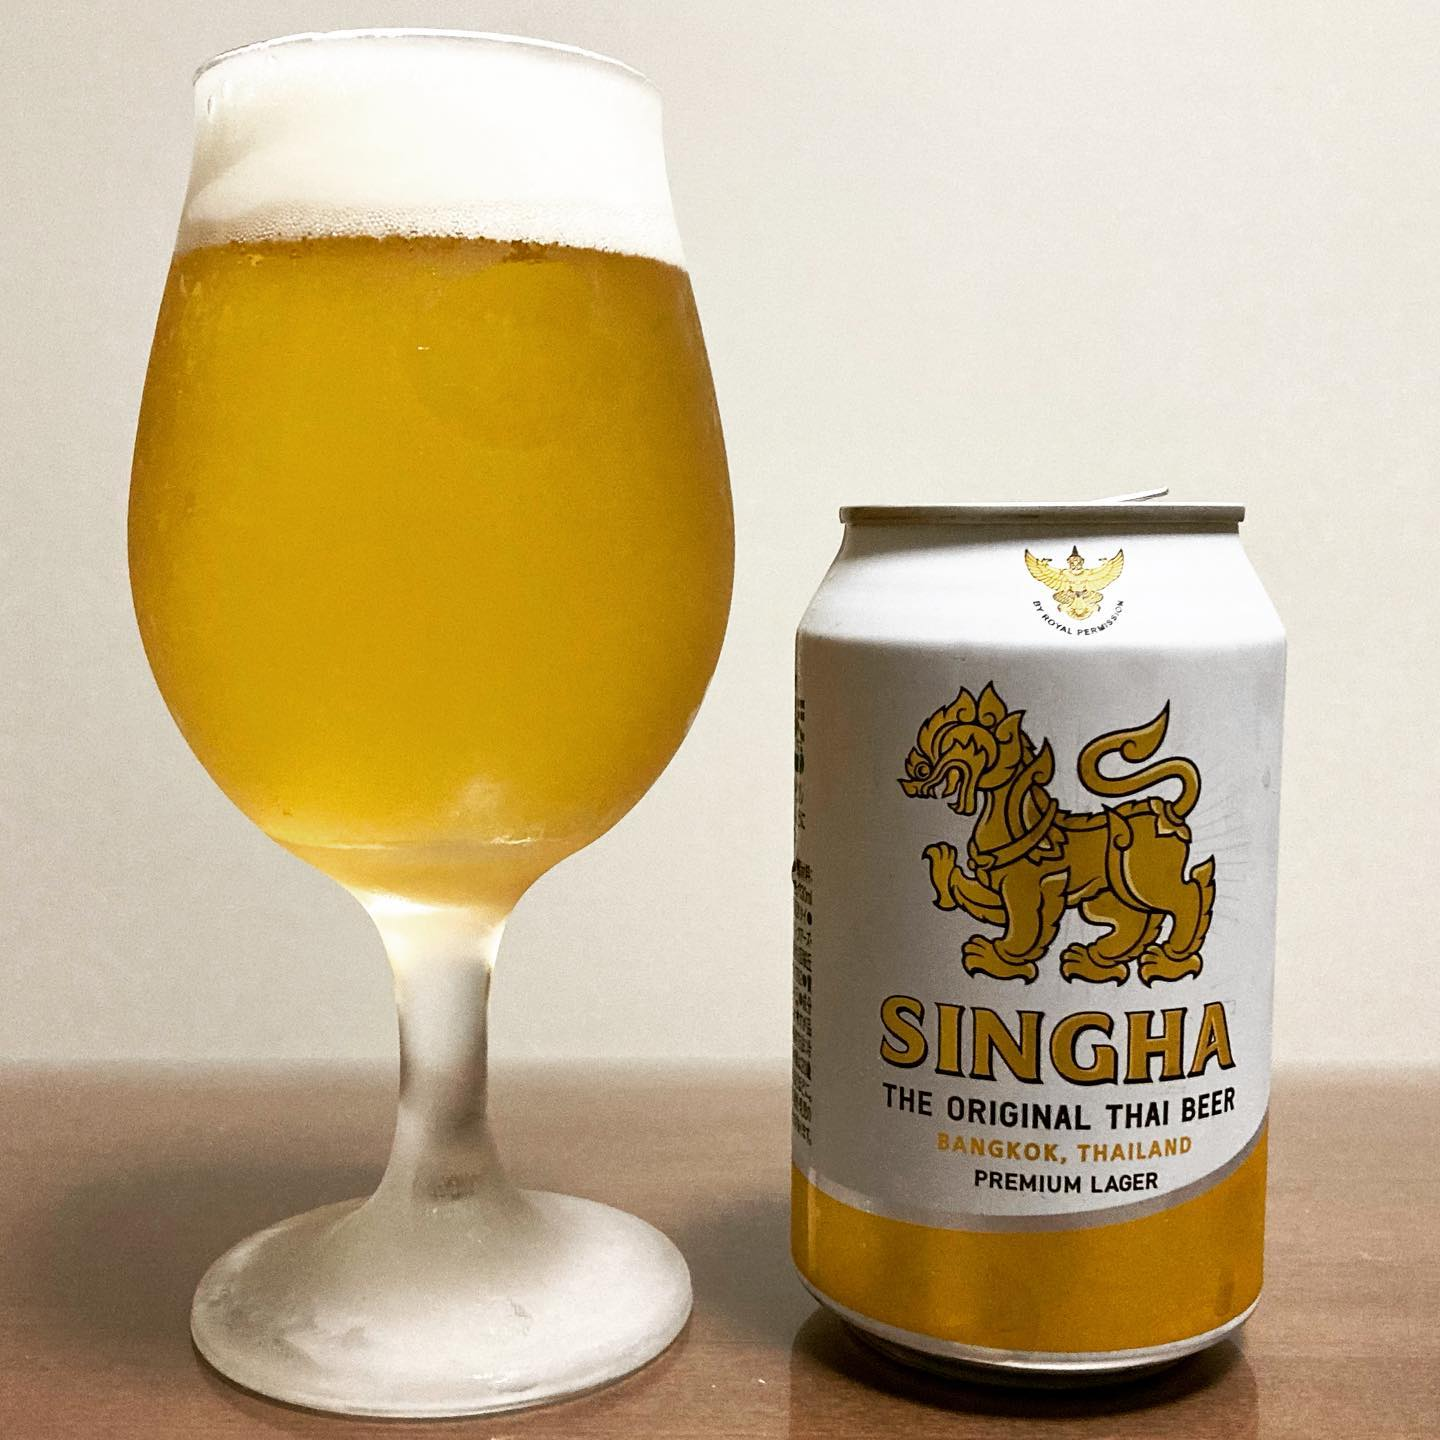alcohol: (119, 16, 745, 1429), (781, 483, 1294, 1394)
